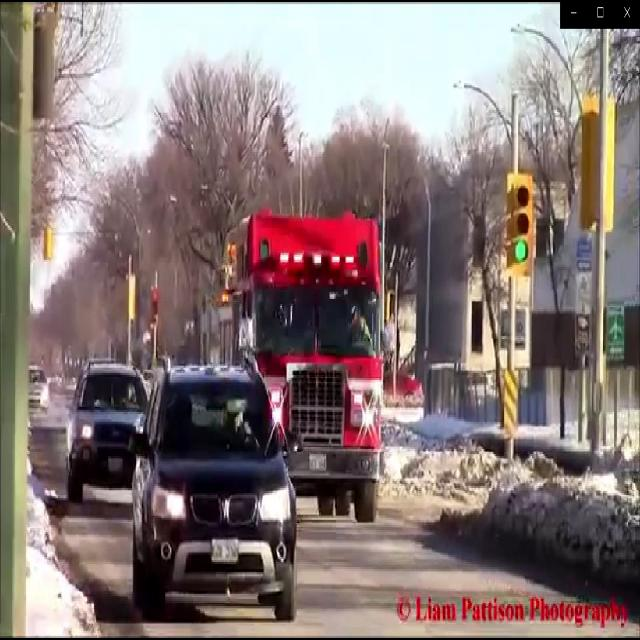emergency: (253, 215, 388, 494)
